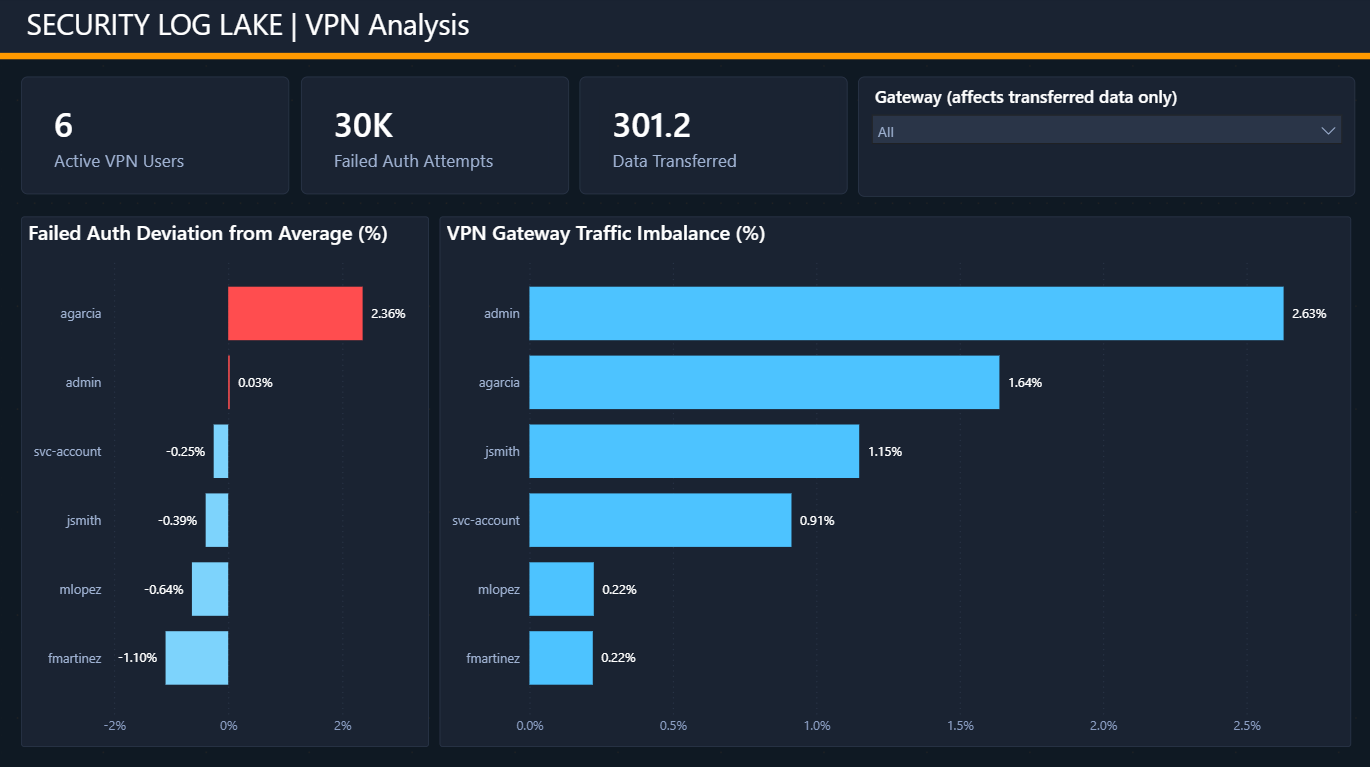

This screenshot's page, from the dashboard's own definition file:
{"tool":"powerbi","page":{"name":"VPN Analysis","canvas":[1280,720],"ordinal":2},"visuals":[{"type":"shape","box":[0,0,1280,55],"z":0},{"type":"textbox","box":[20,3,820,50],"z":1000},{"type":"shape","box":[0,48,1280,16],"z":2000},{"type":"clusteredBarChart","title":"Failed Auth Deviation from Average (%)","fields":{"Category":["q4_vpn_failed_auth.user"],"Y":["_Measures.Failed Auth vs Avg %"]},"box":[20,205,380,495],"z":3000},{"type":"slicer","fields":{"Values":["q5_vpn_sessions.vpn_gateway"]},"box":[800,75,464,112],"z":4000},{"type":"cardVisual","fields":{"Data":["_Measures.Active VPN Users"]},"box":[20,75,250,110],"z":5000},{"type":"clusteredBarChart","title":"VPN Gateway Traffic Imbalance (%)","fields":{"Category":["q5_vpn_sessions.user"],"Y":["_Measures.Gateway Traffic Imbalance %"]},"box":[410,205,850,495],"z":6000},{"type":"cardVisual","fields":{"Data":["Sum(q4_vpn_failed_auth.failed_attempts)"]},"box":[280,75,250,110],"z":7000},{"type":"cardVisual","fields":{"Data":["_Measures.VPN Data GB"]},"box":[540,75,250,110],"z":8000}]}

Visuals, with their boxes in screenshot pixels (x1, y1, x2, y2), scaled from the page's 1280x720 canvas onto the 1370x767 screenshot:
shape: box=[0, 0, 1369, 59]
textbox: box=[21, 3, 899, 56]
shape: box=[0, 51, 1369, 68]
"Failed Auth Deviation from Average (%)" clusteredBarChart: box=[21, 218, 428, 746]
slicer - q5_vpn_sessions.vpn_gateway: box=[856, 80, 1353, 199]
cardVisual - _Measures.Active VPN Users: box=[21, 80, 289, 197]
"VPN Gateway Traffic Imbalance (%)" clusteredBarChart: box=[439, 218, 1349, 746]
cardVisual - Sum(q4_vpn_failed_auth.failed_attempts): box=[300, 80, 567, 197]
cardVisual - _Measures.VPN Data GB: box=[578, 80, 846, 197]
